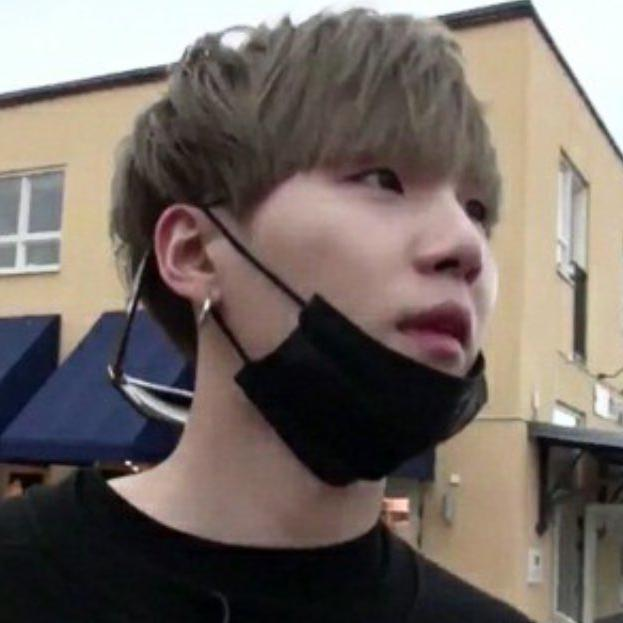mask_weared_incorrect: (244, 180, 503, 429)
